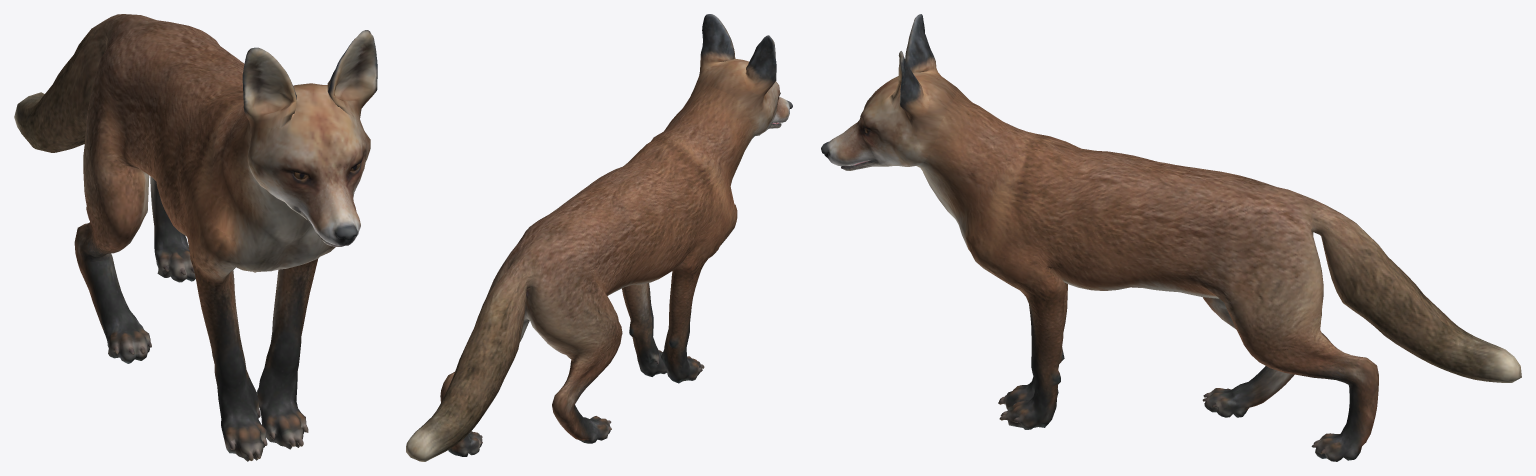
Rendered from imported-fox.glb.
The picture shows the model from 3 angles, left to right: view 1: azimuth 30°, elevation 25°; view 2: azimuth 150°, elevation 25°; view 3: azimuth 270°, elevation 25°; orthographic projection. The views are drawn at different scales.
Parts seen in each view (by area): view 1: fox-procedural-skin; view 2: fox-procedural-skin; view 3: fox-procedural-skin.
Part boxes in pixels (x1,y1,x2,y2): fox-procedural-skin: (14, 14, 377, 461); fox-procedural-skin: (406, 14, 792, 461); fox-procedural-skin: (821, 14, 1521, 461).
Bounding box in the file's own units: 0.2298 × 0.48 × 0.8134.
1 material, 1 textured.
